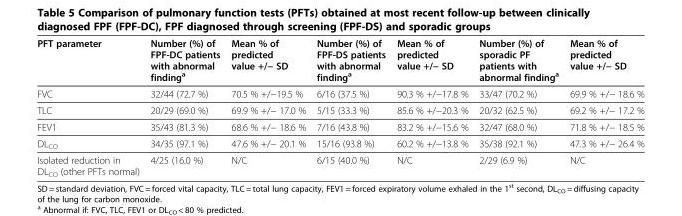table: (36, 37, 643, 177)
table column: (36, 37, 144, 177), (473, 37, 563, 177), (225, 37, 310, 177), (390, 37, 473, 177), (144, 37, 225, 177), (310, 37, 390, 177), (563, 37, 643, 177)
table column header: (36, 37, 643, 84)
table row: (36, 37, 643, 84), (36, 151, 643, 177), (36, 84, 643, 101), (36, 101, 643, 118), (36, 134, 643, 151), (36, 118, 643, 134)
